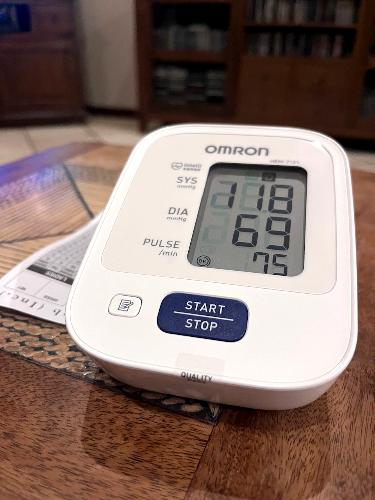bpm: (182, 153, 316, 278)
